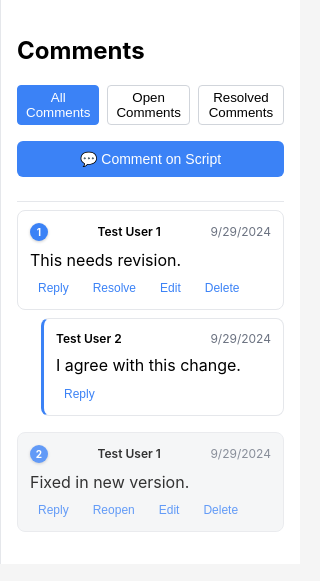
Test: CommentSidebar › Filter Functionality › should filter to show only open comments
Click the button "Open Comments": (149, 105) [107,85,190,125]
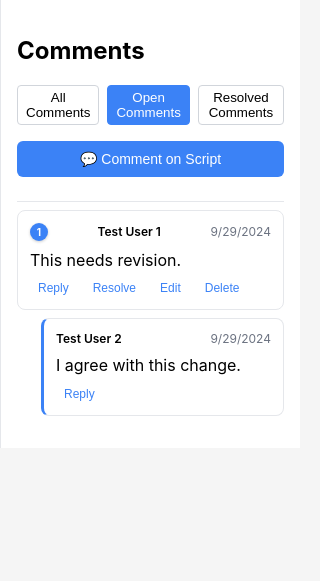
Expected: the text "This needs revision." is shown, [30,250,181,270]
Now the text "Fixed in new version." is gone
